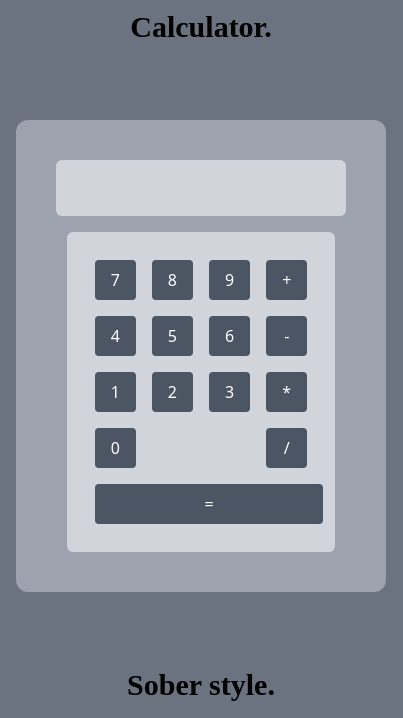
Test: Calculator › should user input after clicking a number
This screenshot has width=403, height=718.
Click the button "1": (115, 392) [95, 372, 136, 412]
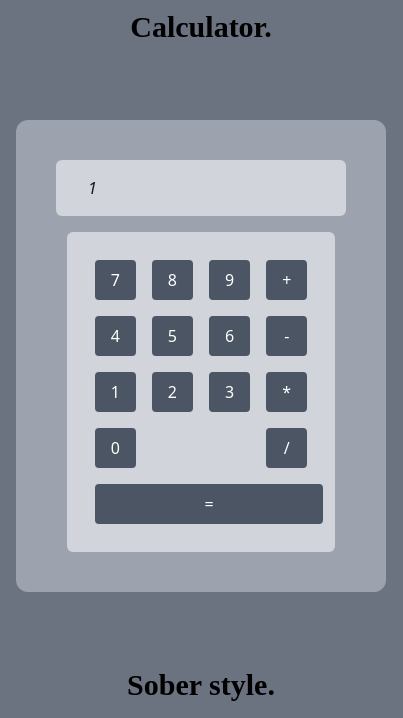
Result: the field holds "1" at [56, 160, 346, 216]
